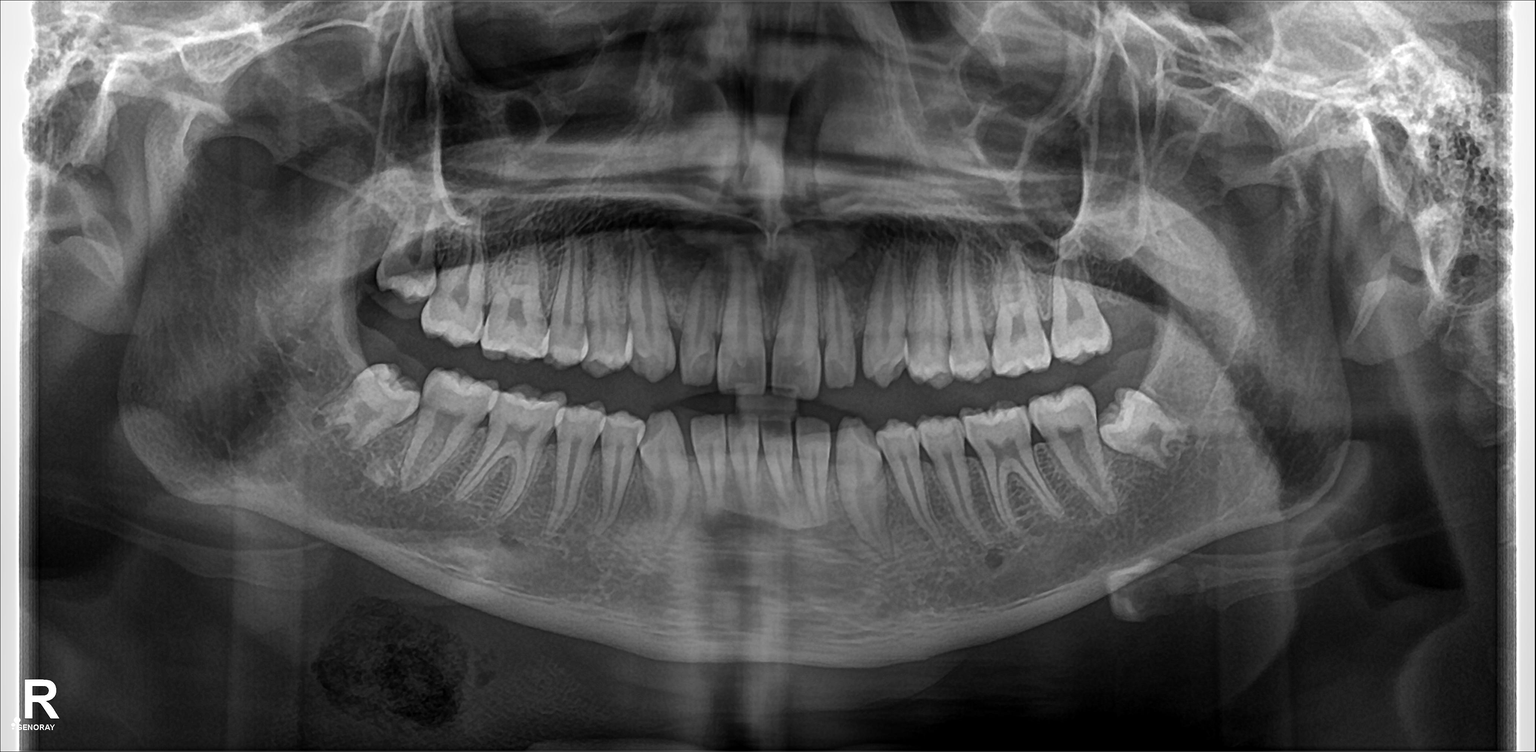Impacted Third Molar: (337, 365, 419, 444), (1108, 395, 1186, 462)
Missing Tooth: (1093, 255, 1156, 350)
